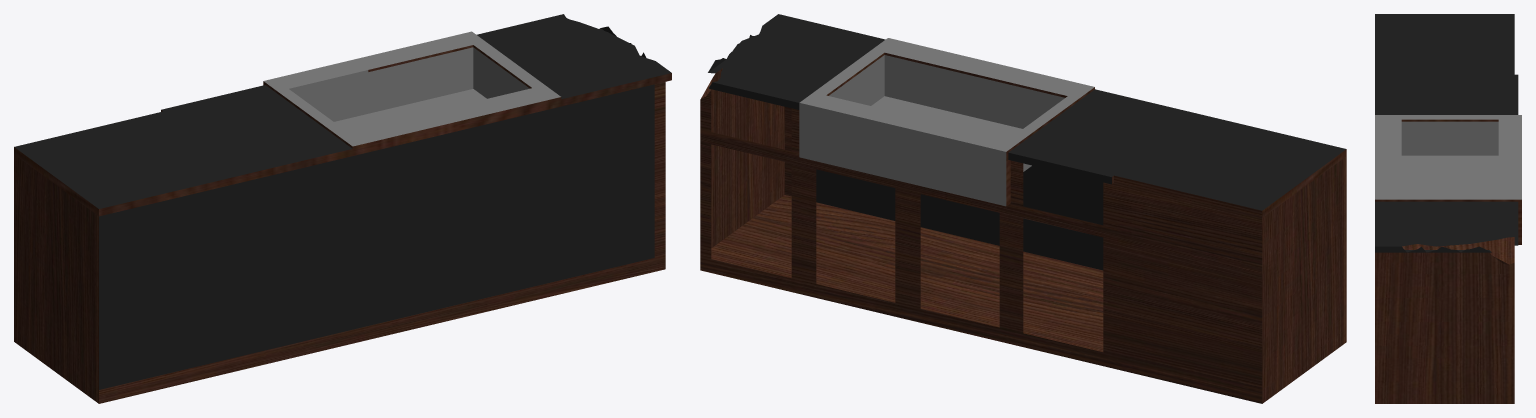
The model's file is Counter base.fbx.
The picture shows the model from 3 angles, left to right: view 1: azimuth 30°, elevation 25°; view 2: azimuth 150°, elevation 25°; view 3: azimuth 270°, elevation 25°; orthographic projection. The views are drawn at different scales.
Visible parts, largest first — view 1: Cube.060, Cube.026; view 2: Cube.060, Cube.026; view 3: Cube.026, Cube.060.
Boxes of the visible parts, x1,y1,x2,y2 form: Cube.060: (14, 82, 665, 403); Cube.026: (14, 14, 671, 216); Cube.060: (700, 68, 1346, 403); Cube.026: (708, 14, 1346, 217); Cube.026: (1375, 14, 1521, 252); Cube.060: (1375, 237, 1514, 403).
Bounding box in the file's own units: 795 × 264 × 215.
